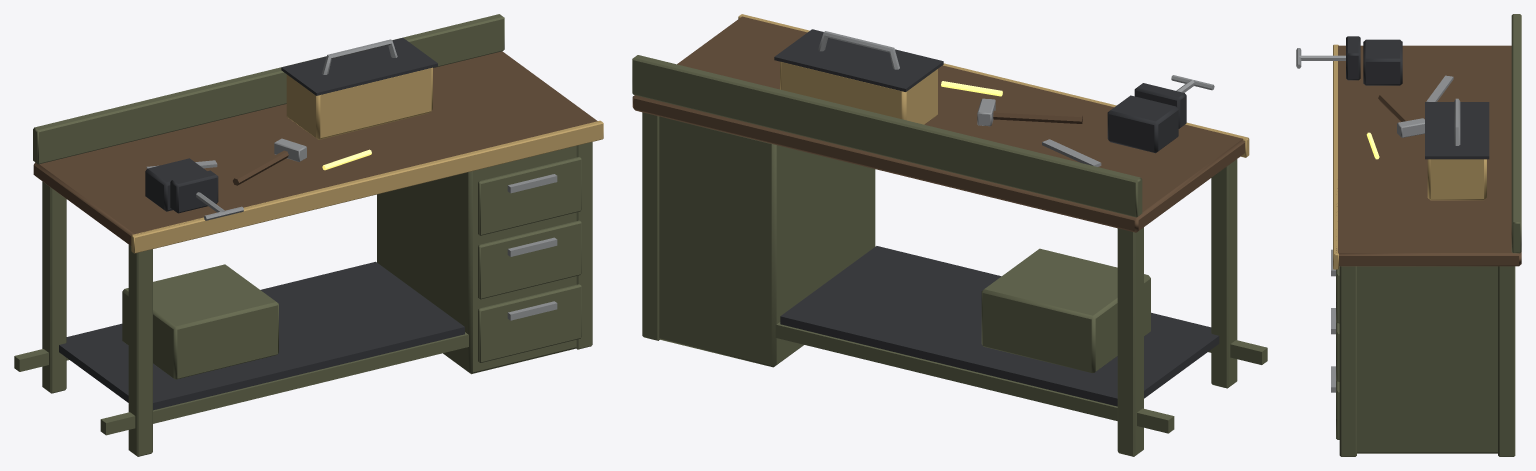
File: int_workbench.glb
3 renders of one model, left to right at view 1: azimuth 30°, elevation 25°; view 2: azimuth 150°, elevation 25°; view 3: azimuth 270°, elevation 25°, orthographic. The views are drawn at different scales.
Visible parts, largest first — view 1: kit_int_workbench_paint, kit_int_workbench_wood, kit_int_workbench_dark_metal, kit_int_workbench_trim_metal, kit_int_workbench_metal; view 2: kit_int_workbench_paint, kit_int_workbench_dark_metal, kit_int_workbench_wood, kit_int_workbench_trim_metal, kit_int_workbench_metal; view 3: kit_int_workbench_paint, kit_int_workbench_wood, kit_int_workbench_dark_metal, kit_int_workbench_trim_metal, kit_int_workbench_metal.
Boxes of the visible parts, x1,y1,x2,y2 form: kit_int_workbench_paint: (14, 14, 592, 456); kit_int_workbench_wood: (33, 51, 597, 245); kit_int_workbench_dark_metal: (59, 38, 464, 410); kit_int_workbench_trim_metal: (131, 67, 603, 253); kit_int_workbench_metal: (146, 39, 557, 320); kit_int_workbench_paint: (632, 55, 1267, 456); kit_int_workbench_dark_metal: (774, 29, 1219, 406); kit_int_workbench_wood: (632, 16, 1244, 232); kit_int_workbench_trim_metal: (738, 14, 1249, 157); kit_int_workbench_metal: (818, 31, 1214, 166); kit_int_workbench_paint: (1336, 14, 1521, 456); kit_int_workbench_wood: (1336, 45, 1521, 266); kit_int_workbench_dark_metal: (1346, 36, 1489, 159); kit_int_workbench_trim_metal: (1333, 44, 1486, 269); kit_int_workbench_metal: (1296, 48, 1460, 392).
Size of the model in its own units: 2.11 by 1.2 by 0.91.
